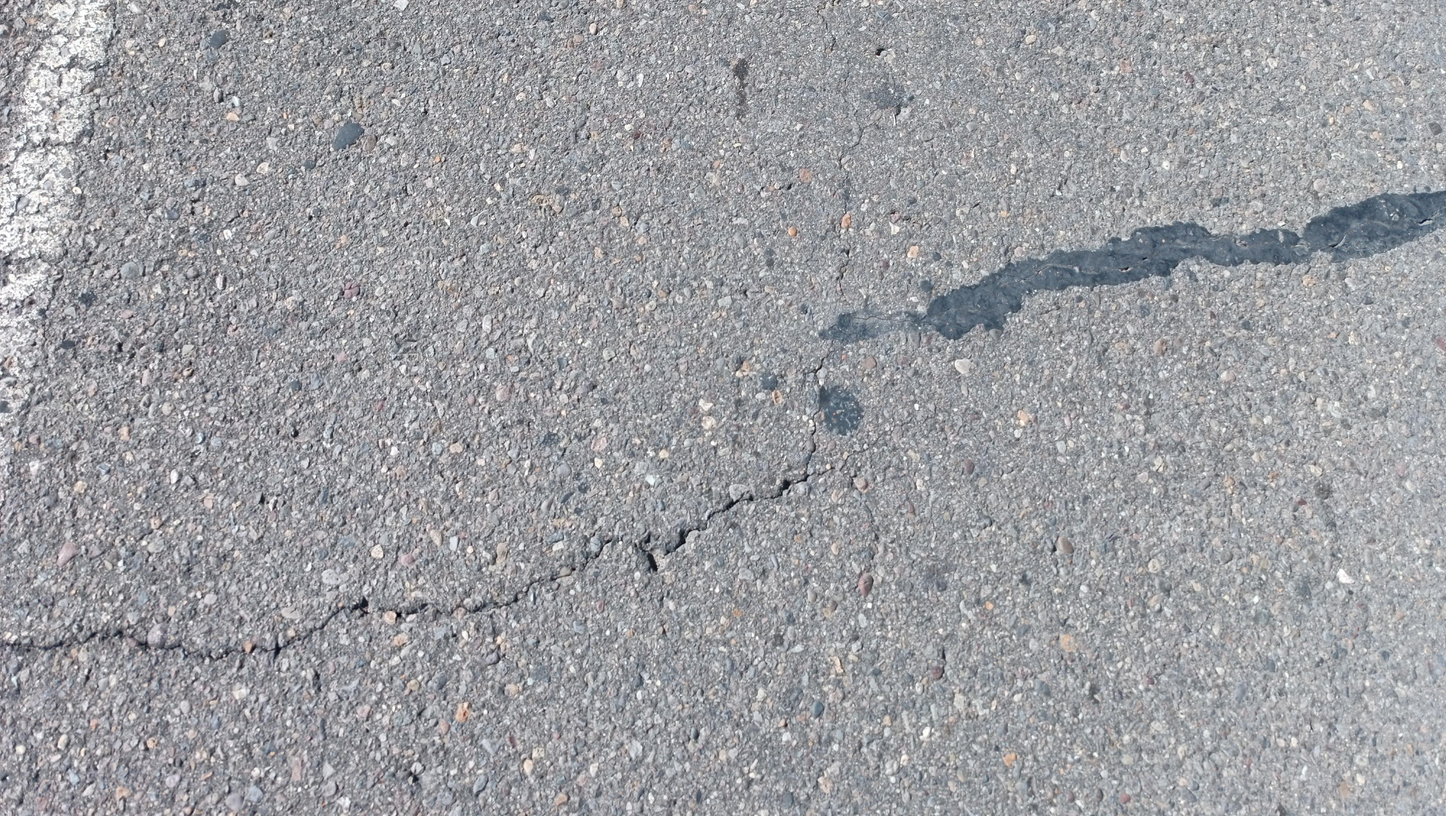GRIETA: (934, 192, 1446, 328), (0, 595, 432, 663), (662, 409, 820, 559), (434, 536, 662, 618)
